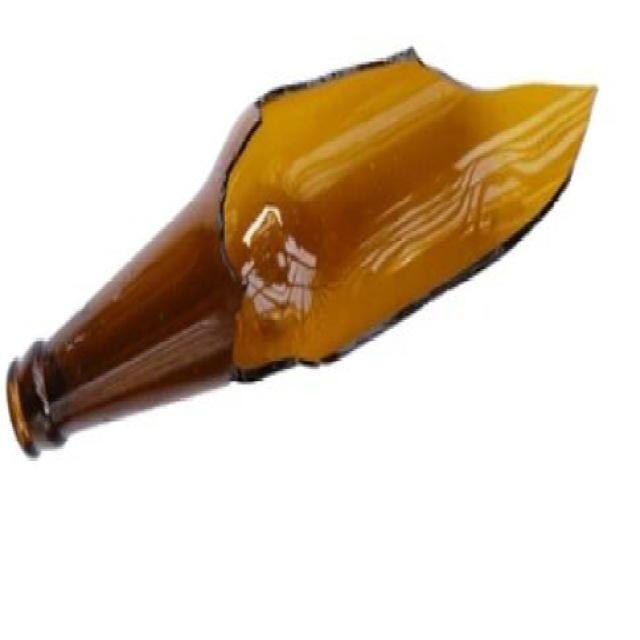electronic: (4, 42, 598, 460)
